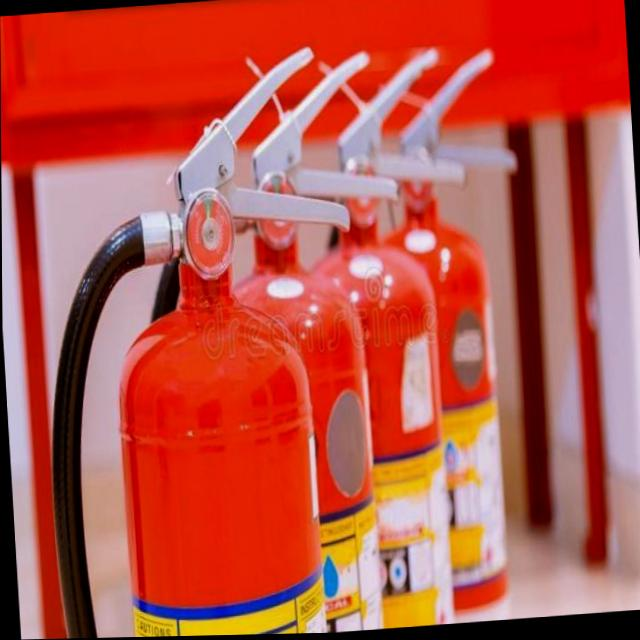FireExtinguisher: (16, 18, 378, 640), (130, 25, 428, 638), (228, 34, 492, 636)
